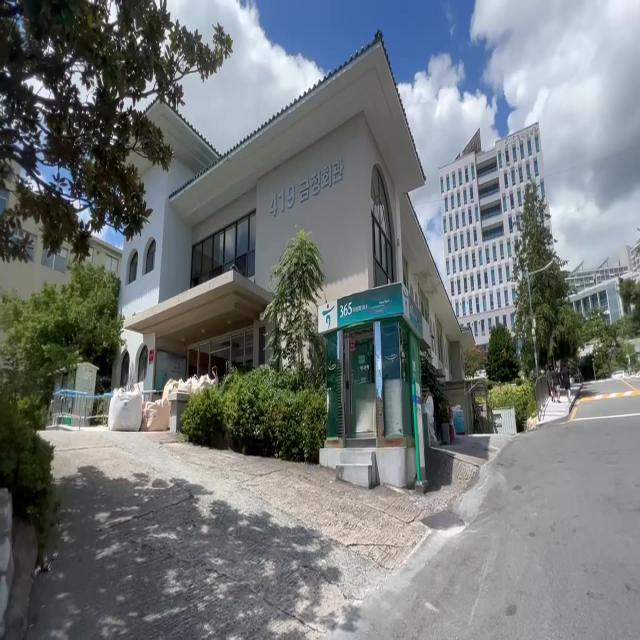building: (162, 88, 452, 394)
